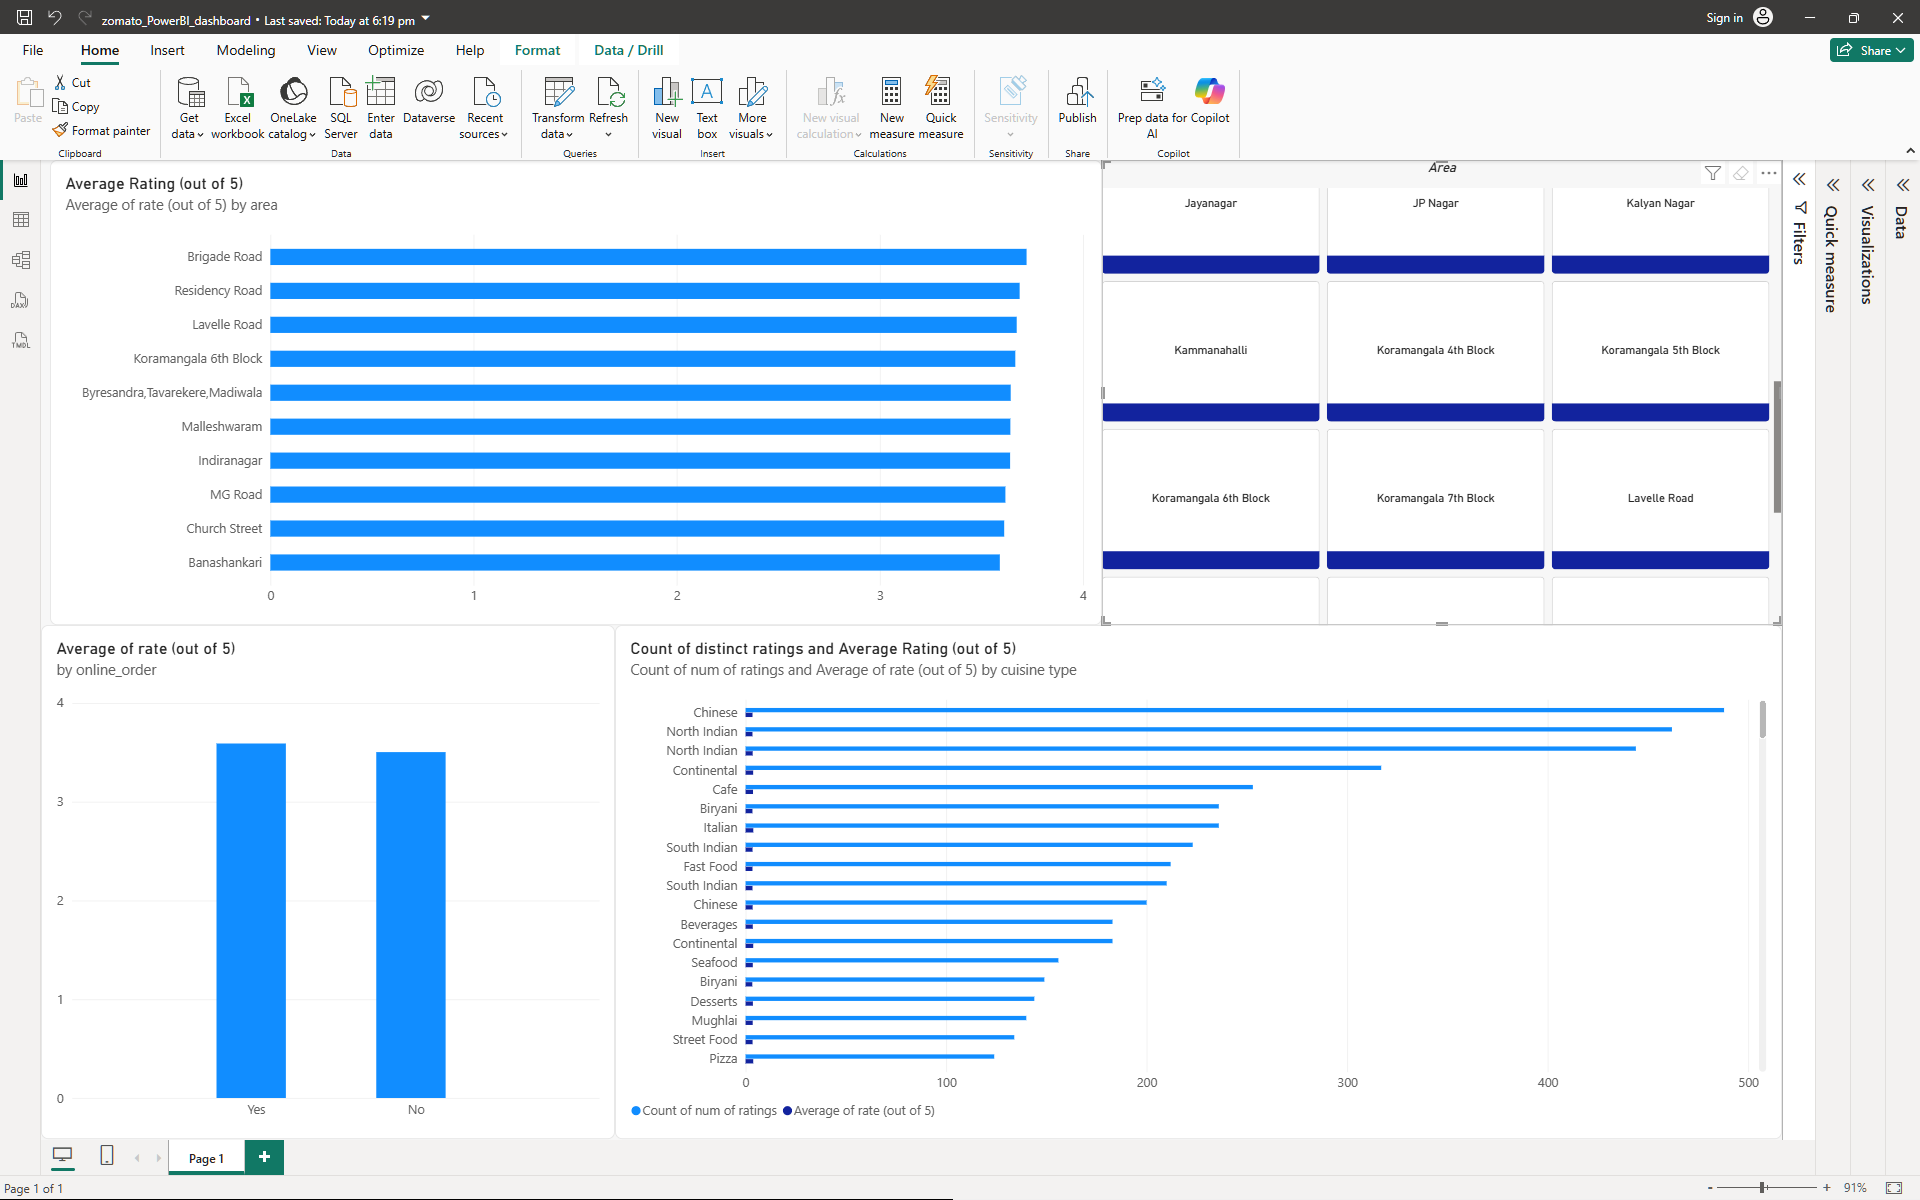

The page's visual inventory and layout, read from the dashboard file:
{"tool":"powerbi","page":{"name":"Page 1","canvas":[1920,1080],"ordinal":0},"visuals":[{"type":"barChart","title":"Average Rating (out of 5)","fields":{"Category":["zomato_cleaned_file.area"],"Y":["Avg(zomato_cleaned_file.rate (out of 5))"]},"box":[9.9,0,1160.2,512.7],"z":0},{"type":"clusteredBarChart","title":"Count of distinct ratings and Average Rating (out of 5)","fields":{"Category":["zomato_cleaned_file.cuisine_type"],"Y":["Count(zomato_cleaned_file.num of ratings)","Avg(zomato_cleaned_file.rate (out of 5))"]},"box":[633.4,512.7,1286.6,566.6],"z":1000},{"type":"clusteredColumnChart","fields":{"Category":["zomato_cleaned_file.online_order"],"Y":["Avg(zomato_cleaned_file.rate (out of 5))"]},"box":[0,512.7,633.4,566.6],"z":2000},{"type":"advancedSlicerVisual","title":"Area","fields":{"Values":["zomato_cleaned_file.area"]},"box":[1170.2,0,749.8,512.7],"z":3000}]}

Visuals, with their boxes on the page's 1920x1080 design canvas (x1, y1, x2, y2). These are canvas units, not pixel positions in the 1920x1200 screenshot, which may show the page scaled, cropped or inside an application window:
"Average Rating (out of 5)" barChart: bbox=(10, 0, 1170, 513)
"Count of distinct ratings and Average Rating (out of 5)" clusteredBarChart: bbox=(633, 513, 1920, 1079)
clusteredColumnChart - zomato_cleaned_file.online_order x Avg(zomato_cleaned_file.rate (out of 5)): bbox=(0, 513, 633, 1079)
"Area" advancedSlicerVisual: bbox=(1170, 0, 1920, 513)
